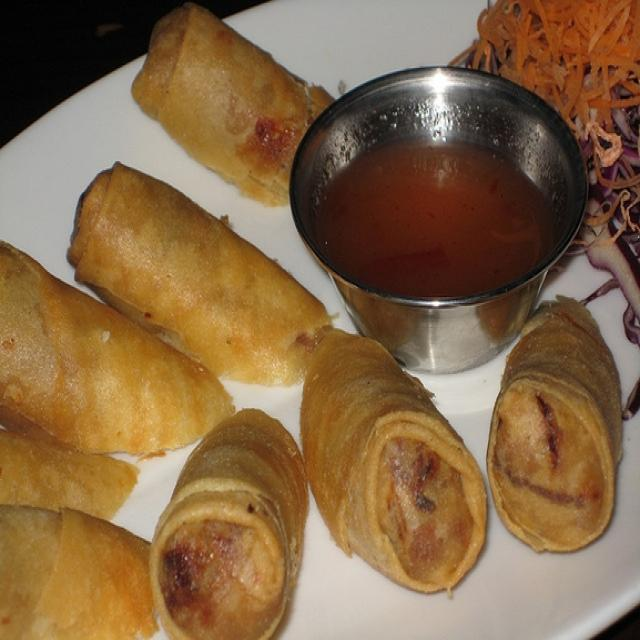炸货点心: (11, 21, 621, 624)
